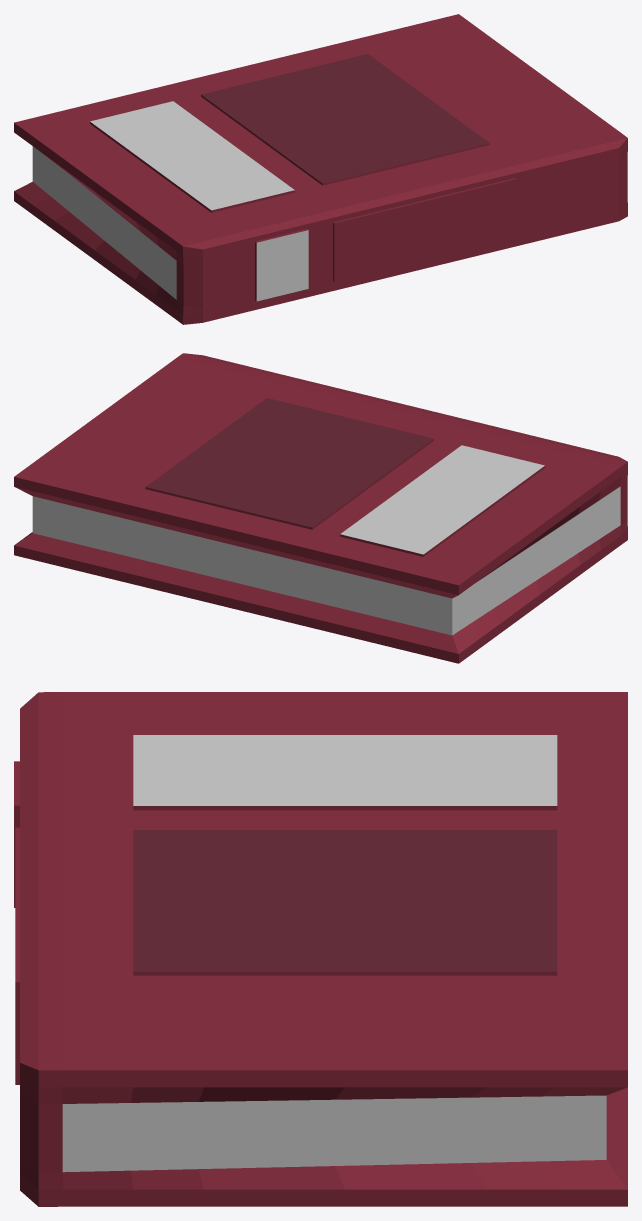
File: Libro3.fbx
3 renders of one model, top to bottom at view 1: azimuth 30°, elevation 25°; view 2: azimuth 150°, elevation 25°; view 3: azimuth 270°, elevation 25°, orthographic. The views are drawn at different scales.
Parts seen in each view (by area): view 1: Libro2; view 2: Libro2; view 3: Libro2.
Part boxes in pixels (box(x1,y1,x2,y2)): Libro2: box(14, 14, 627, 324); Libro2: box(14, 353, 627, 663); Libro2: box(14, 692, 627, 1206).
Size of the model in its own units: 202 by 35.03 by 138.
